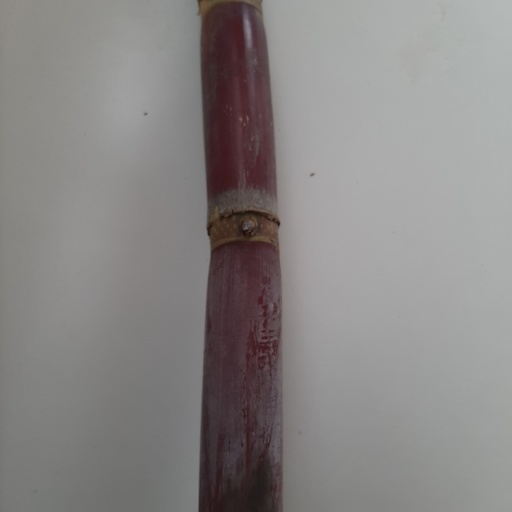Bud: (236, 213, 260, 242)
